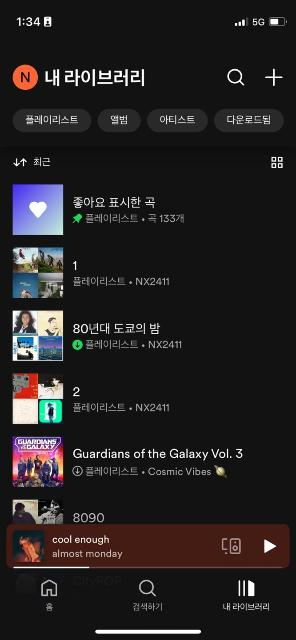Bottom_Navigation: (0, 568, 296, 640)
Icon: (236, 580, 256, 598), (221, 538, 241, 556), (264, 68, 284, 86), (228, 70, 246, 88), (139, 580, 157, 596), (42, 580, 56, 598), (264, 538, 276, 554), (12, 157, 28, 167), (72, 340, 84, 350), (272, 156, 282, 168), (72, 466, 82, 476), (72, 214, 82, 224)
Image: (11, 372, 63, 423), (12, 436, 64, 486), (13, 310, 63, 360), (14, 246, 62, 298), (13, 184, 62, 234), (14, 531, 46, 563), (213, 464, 227, 478)
List: (0, 171, 296, 521)
Multi_Tab: (0, 97, 296, 147)
Text: (74, 448, 244, 478), (74, 195, 184, 222), (72, 324, 182, 351), (73, 262, 169, 286), (74, 388, 168, 412), (46, 70, 146, 86), (54, 536, 122, 558), (27, 115, 78, 125), (159, 115, 195, 125), (228, 116, 270, 124), (224, 604, 270, 610), (134, 604, 162, 610), (32, 158, 50, 166), (111, 116, 127, 124), (20, 72, 30, 82), (46, 603, 53, 611)
TextButton: (12, 109, 90, 131), (212, 109, 284, 131), (147, 109, 207, 133), (98, 110, 142, 132), (12, 64, 38, 90)
TextImageButton: (224, 580, 270, 610), (134, 580, 162, 610), (40, 579, 58, 611)
Toolbar: (0, 50, 296, 96)
UpperTaskBar: (0, 0, 296, 48)
